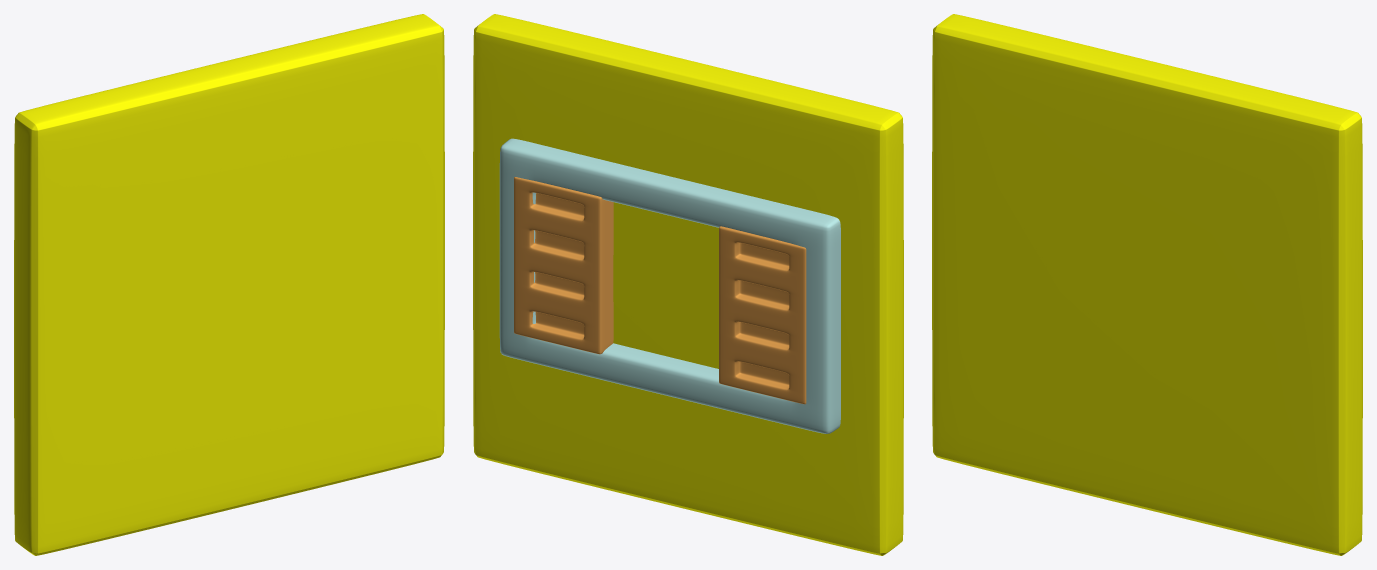
3 views of the same model, side by side, from view 1: azimuth 30°, elevation 25°; view 2: azimuth 150°, elevation 25°; view 3: azimuth 330°, elevation 25° (orthographic).
Parts seen in each view (by area): view 1: polySurface1343; view 2: polySurface1343; view 3: polySurface1343.
Part boxes in pixels (x1,y1,x2,y2): polySurface1343: [14, 14, 444, 555]; polySurface1343: [473, 14, 903, 555]; polySurface1343: [932, 14, 1362, 555].
Bounding box in the file's own units: 0.9995 × 0.9995 × 0.1518.
